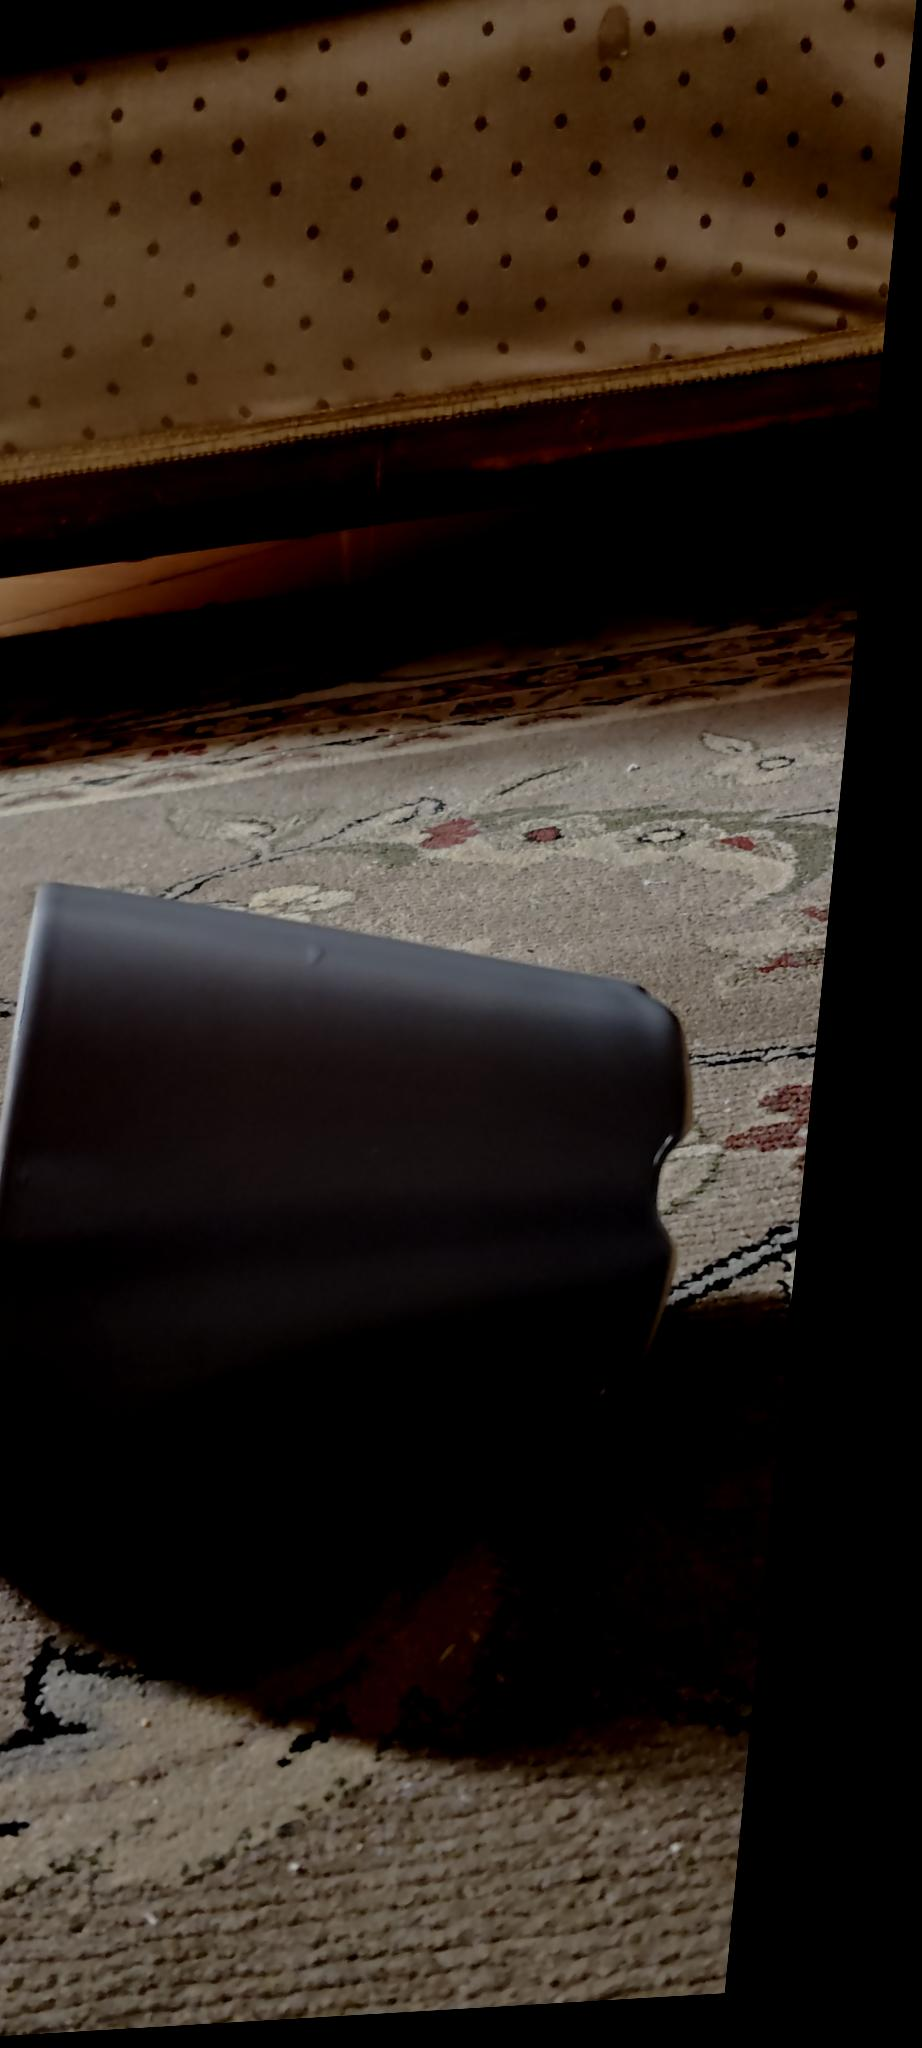Mug: (0, 845, 711, 1546)
